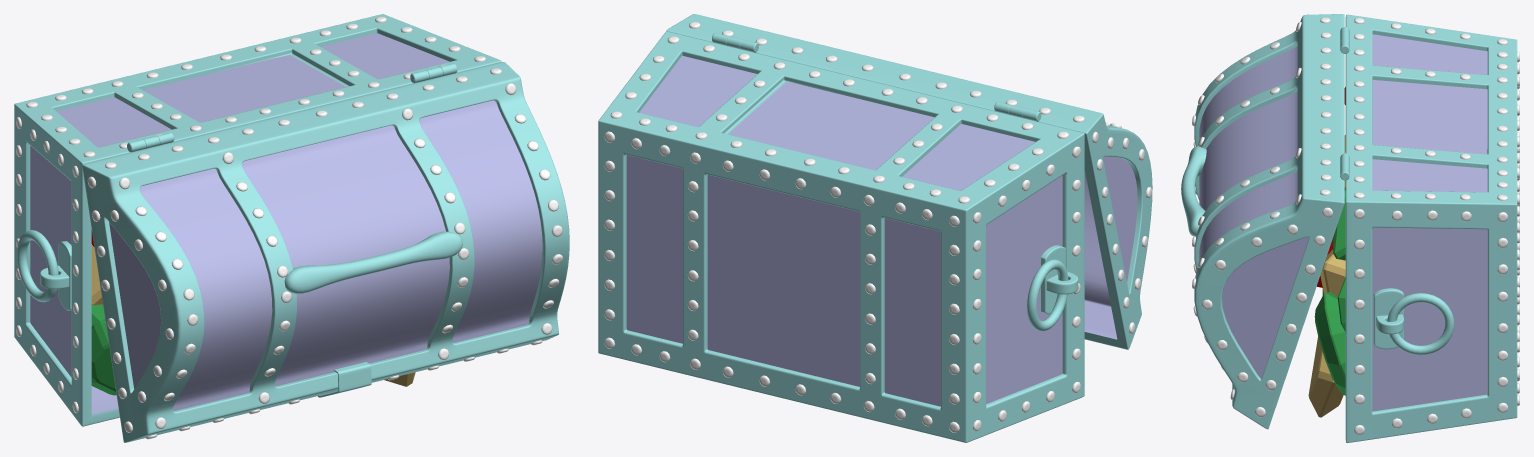
Rendered from takaraB.fbx.
3 renders of one model, left to right at view 1: azimuth 30°, elevation 25°; view 2: azimuth 150°, elevation 25°; view 3: azimuth 270°, elevation 25°, orthographic. The views are drawn at different scales.
Visible parts, largest first — view 1: _aquarium_treasure_chest_v1_L2:aquarium_treasure_chest_wood, _aquarium_treasure_chest_v1_L2:aquarium_treasure_chest_metal, _aquarium_treasure_chest_v1_L2:aquarium_treasure_chest_bolts, _aquarium_treasure_chest_v1_L2:aquarium_treasure_chest_latch, _aquarium_treasure_chest_v1_L2:aquarium_treasure_chest_stone (×2); view 2: _aquarium_treasure_chest_v1_L2:aquarium_treasure_chest_metal, _aquarium_treasure_chest_v1_L2:aquarium_treasure_chest_wood, _aquarium_treasure_chest_v1_L2:aquarium_treasure_chest_bolts, _aquarium_treasure_chest_v1_L2:aquarium_treasure_chest_latch; view 3: _aquarium_treasure_chest_v1_L2:aquarium_treasure_chest_metal, _aquarium_treasure_chest_v1_L2:aquarium_treasure_chest_wood, _aquarium_treasure_chest_v1_L2:aquarium_treasure_chest_bolts, _aquarium_treasure_chest_v1_L2:aquarium_treasure_chest_stone (×2), _aquarium_treasure_chest_v1_L2:aquarium_treasure_chest_latch.
Boxes of the visible parts, x1,y1,x2,y2 form: _aquarium_treasure_chest_v1_L2:aquarium_treasure_chest_wood: [30, 33, 542, 414]; _aquarium_treasure_chest_v1_L2:aquarium_treasure_chest_metal: [14, 14, 569, 442]; _aquarium_treasure_chest_v1_L2:aquarium_treasure_chest_bolts: [16, 16, 562, 439]; _aquarium_treasure_chest_v1_L2:aquarium_treasure_chest_latch: [40, 63, 457, 397]; _aquarium_treasure_chest_v1_L2:aquarium_treasure_chest_stone (×2): [91, 244, 415, 395]; _aquarium_treasure_chest_v1_L2:aquarium_treasure_chest_metal: [598, 14, 1152, 442]; _aquarium_treasure_chest_v1_L2:aquarium_treasure_chest_wood: [626, 56, 1137, 406]; _aquarium_treasure_chest_v1_L2:aquarium_treasure_chest_bolts: [604, 22, 1152, 432]; _aquarium_treasure_chest_v1_L2:aquarium_treasure_chest_latch: [712, 33, 1078, 314]; _aquarium_treasure_chest_v1_L2:aquarium_treasure_chest_metal: [1181, 14, 1517, 442]; _aquarium_treasure_chest_v1_L2:aquarium_treasure_chest_wood: [1199, 34, 1487, 411]; _aquarium_treasure_chest_v1_L2:aquarium_treasure_chest_bolts: [1192, 17, 1519, 435]; _aquarium_treasure_chest_v1_L2:aquarium_treasure_chest_stone (×2): [1308, 135, 1345, 417]; _aquarium_treasure_chest_v1_L2:aquarium_treasure_chest_latch: [1340, 27, 1403, 349].
Bounding box in the file's own units: 14.7 × 9.27 × 10.43.
